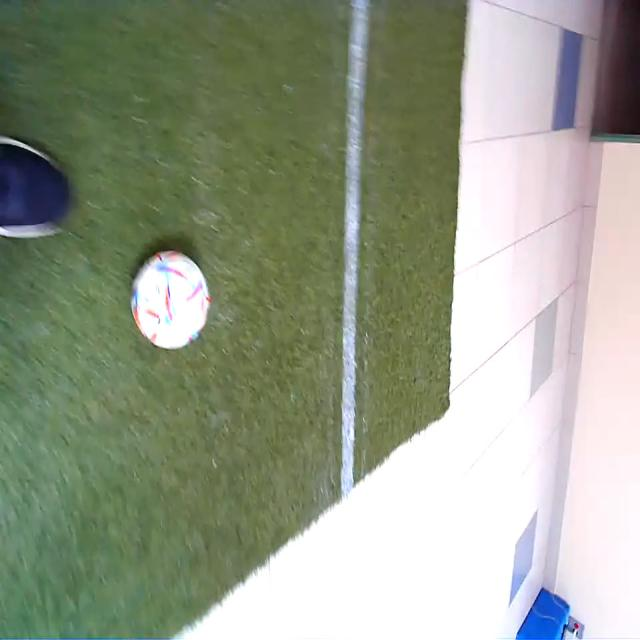ball: (131, 247, 210, 351)
